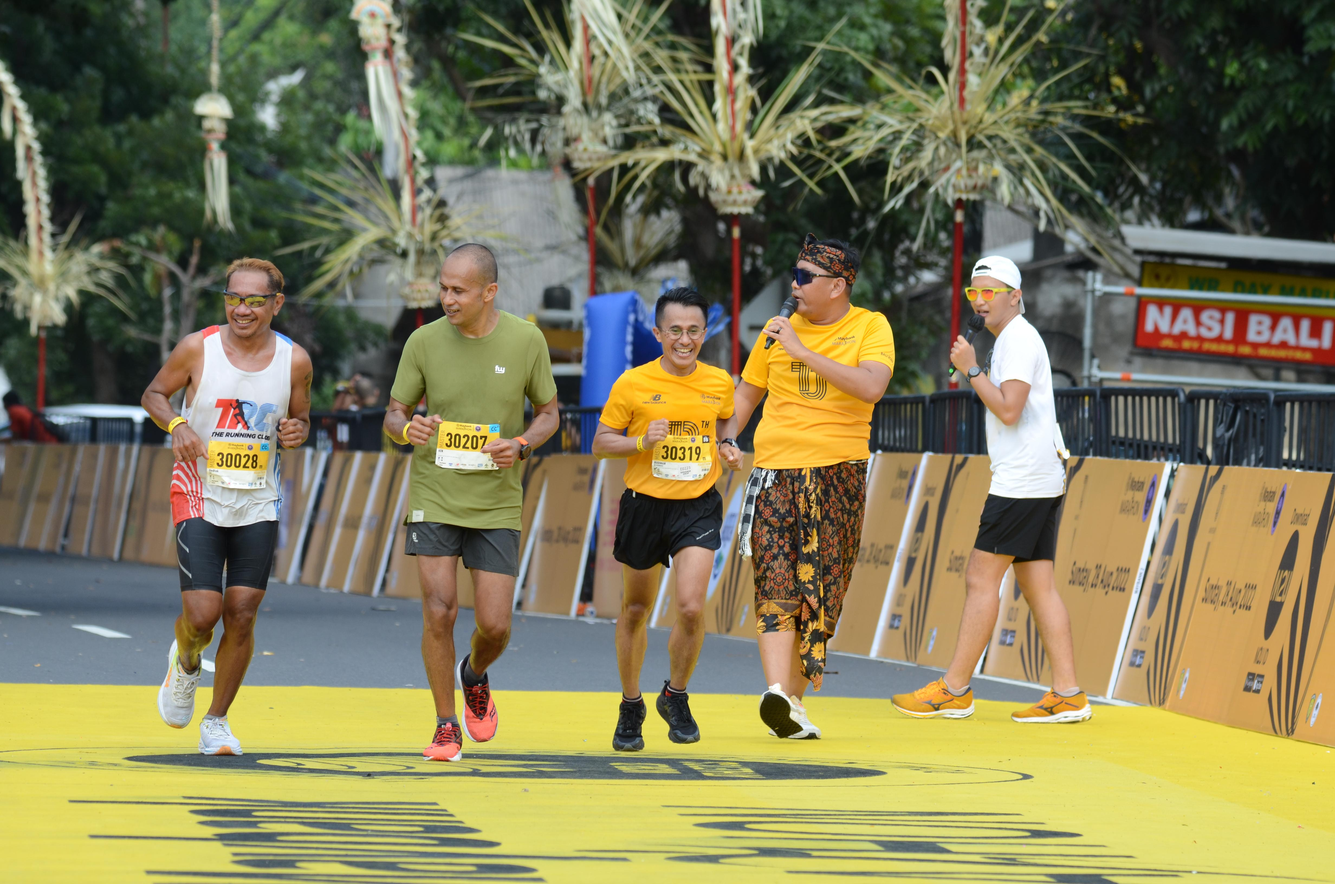bib: (207, 440, 268, 490), (437, 421, 499, 470), (653, 436, 712, 480)
